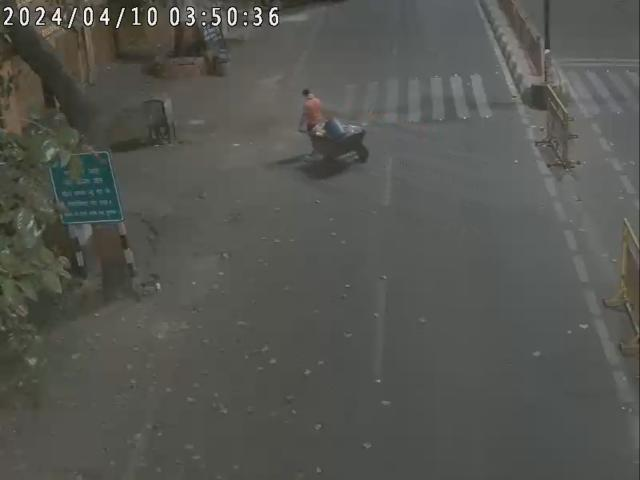person: (300, 89, 323, 133)
